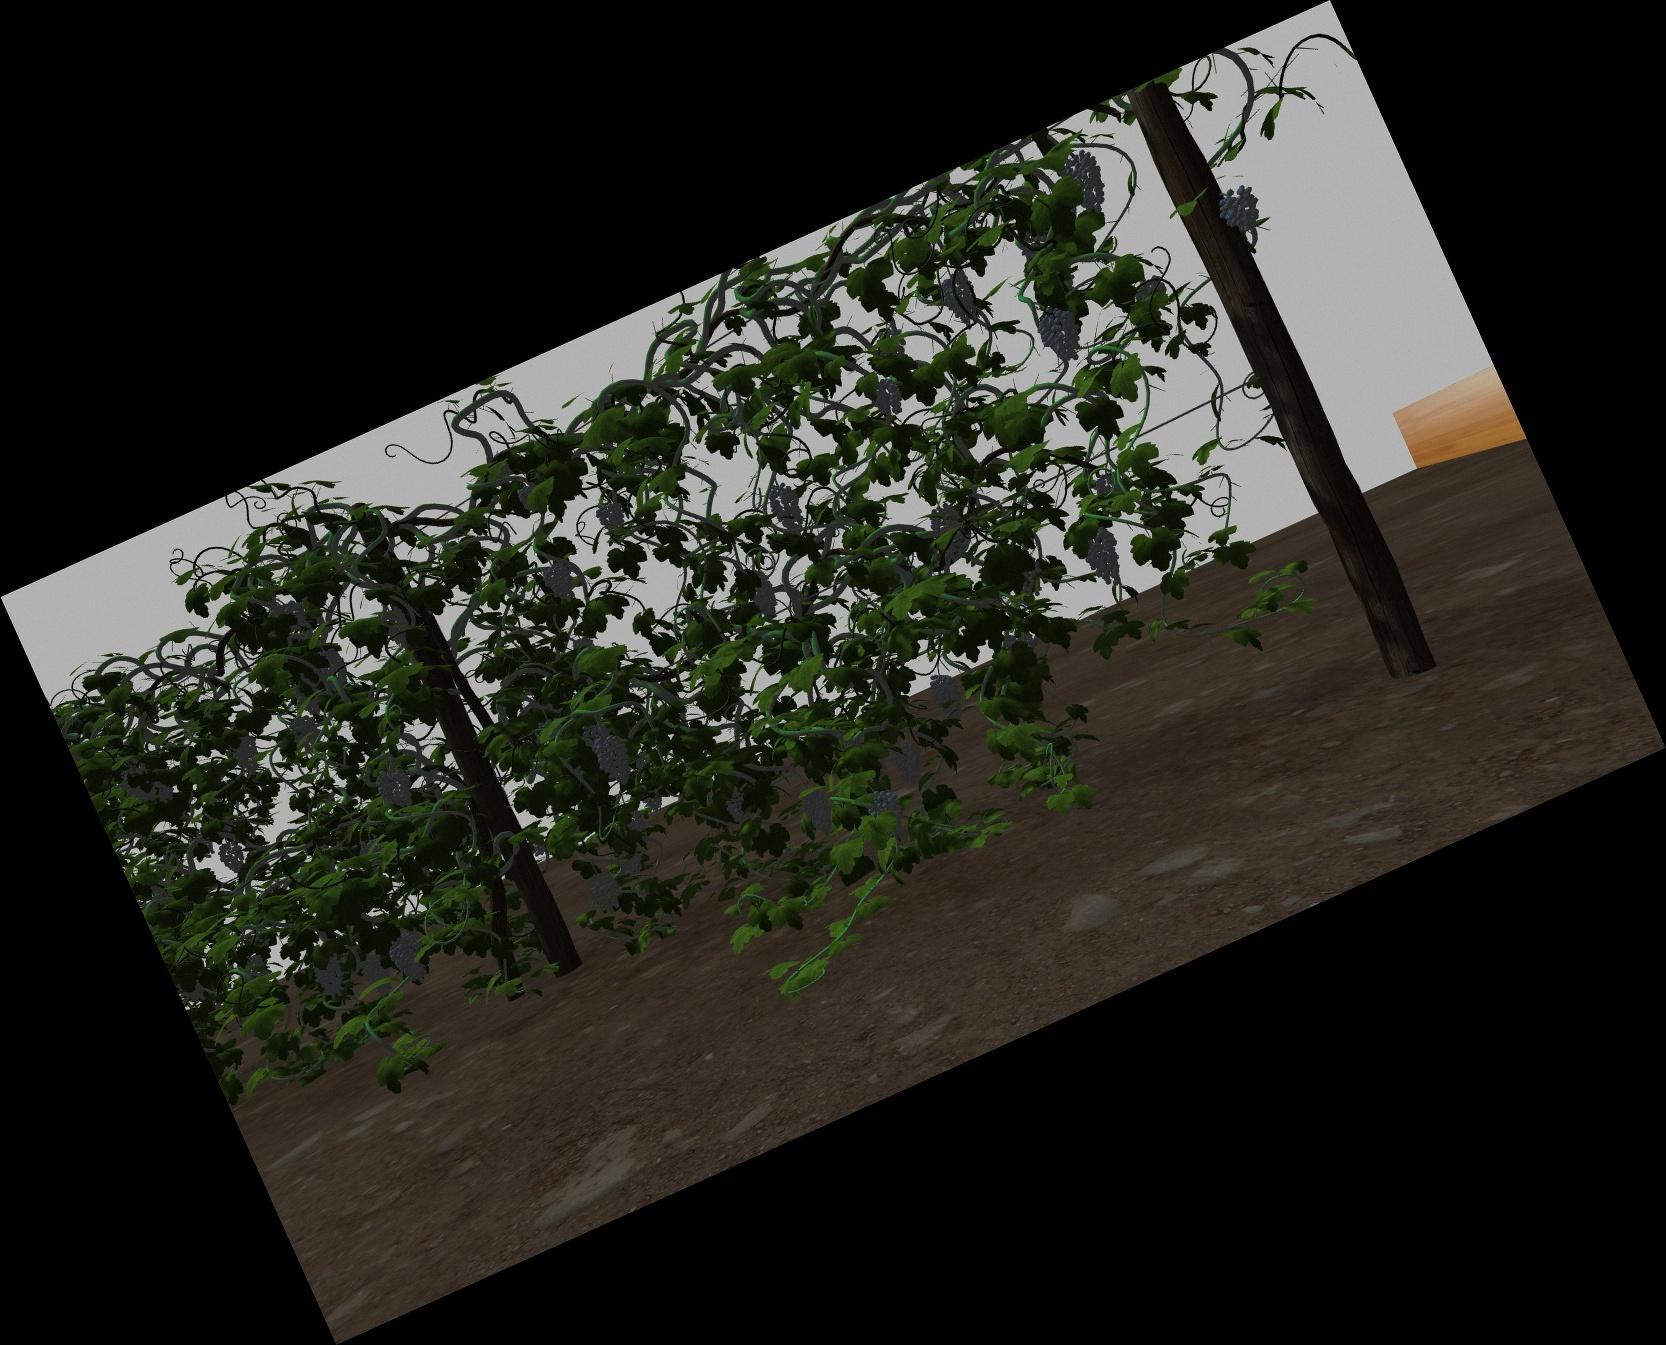grape: (591, 721, 624, 786), (1042, 307, 1080, 362), (1069, 152, 1103, 211), (1086, 530, 1121, 585), (946, 272, 978, 329), (1220, 185, 1260, 231), (932, 672, 962, 727), (394, 932, 425, 983), (933, 504, 963, 554), (891, 736, 922, 784), (771, 483, 801, 533), (377, 769, 413, 810), (806, 791, 834, 839), (873, 380, 904, 419), (751, 574, 777, 619), (546, 564, 575, 604), (316, 958, 344, 998), (598, 495, 624, 538), (364, 954, 390, 996), (591, 872, 619, 911), (233, 736, 261, 775), (862, 789, 897, 819), (124, 767, 154, 803), (318, 651, 344, 692), (726, 785, 753, 823), (386, 608, 409, 646), (291, 715, 318, 747), (221, 843, 246, 876), (616, 848, 644, 876)
